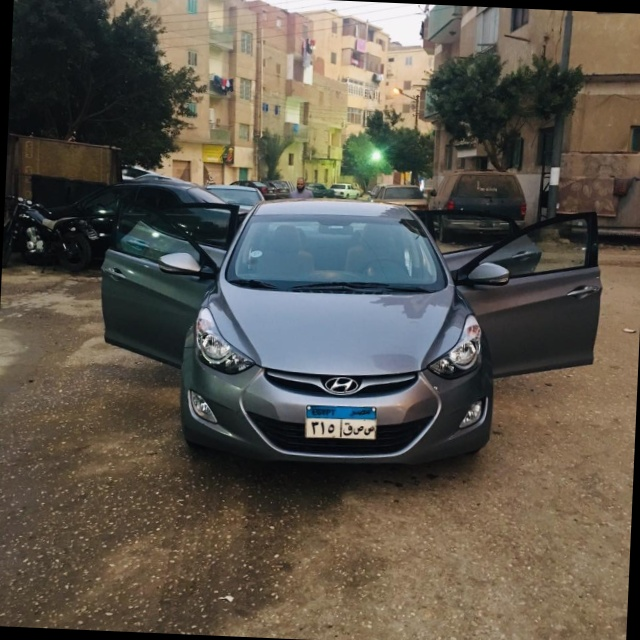License Plate: (301, 401, 380, 442)
